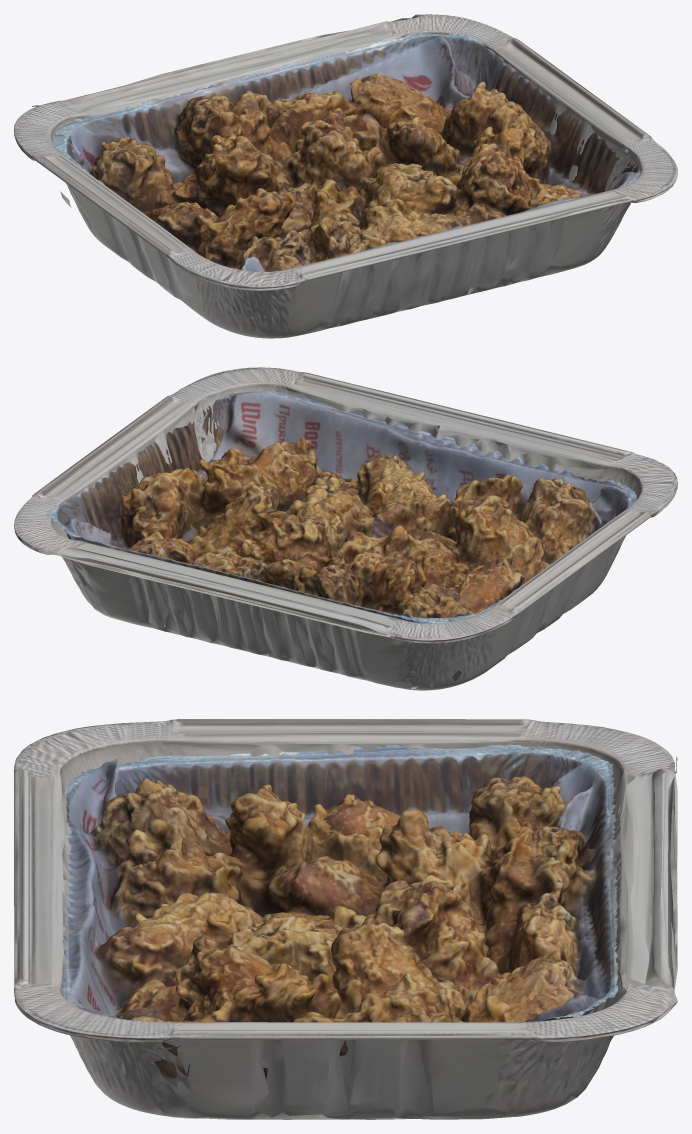
Rendered from wingsKG.glb.
3 renders of one model, top to bottom at view 1: azimuth 30°, elevation 25°; view 2: azimuth 150°, elevation 25°; view 3: azimuth 270°, elevation 25°, orthographic. The views are drawn at different scales.
Parts seen in each view (by area): view 1: 3DModel.001, node_0; view 2: 3DModel.001, node_0; view 3: 3DModel.001, node_0.
Part boxes in pixels (x1,y1,x2,y2): 3DModel.001: (52,32,640,271); node_0: (14,14,677,338); 3DModel.001: (46,391,636,681); node_0: (14,367,677,690); 3DModel.001: (61,744,618,1079); node_0: (14,719,677,1119).
Size of the model in its own units: 0.3397 by 0.0693 by 0.3003.
2 materials, 2 textured.
